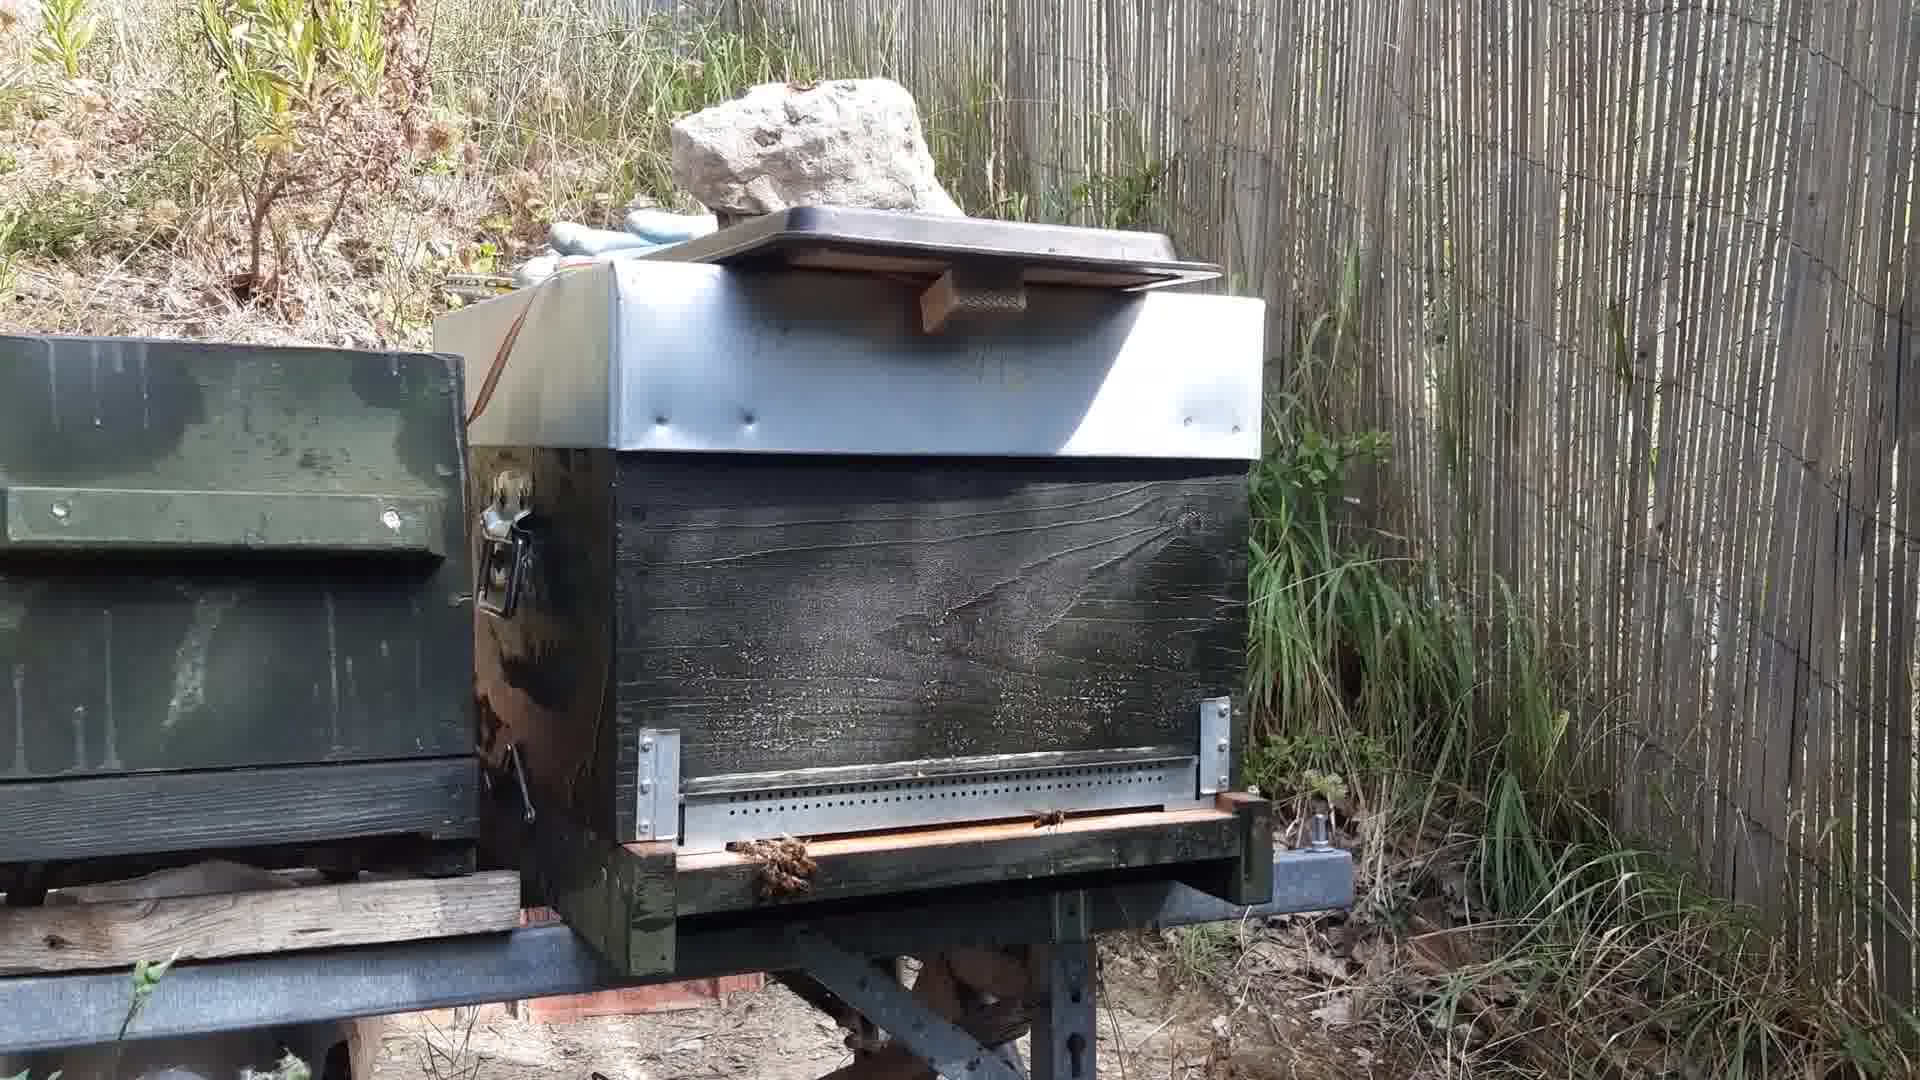bee: (742, 833, 819, 901)
hornet: (1031, 806, 1068, 833)
